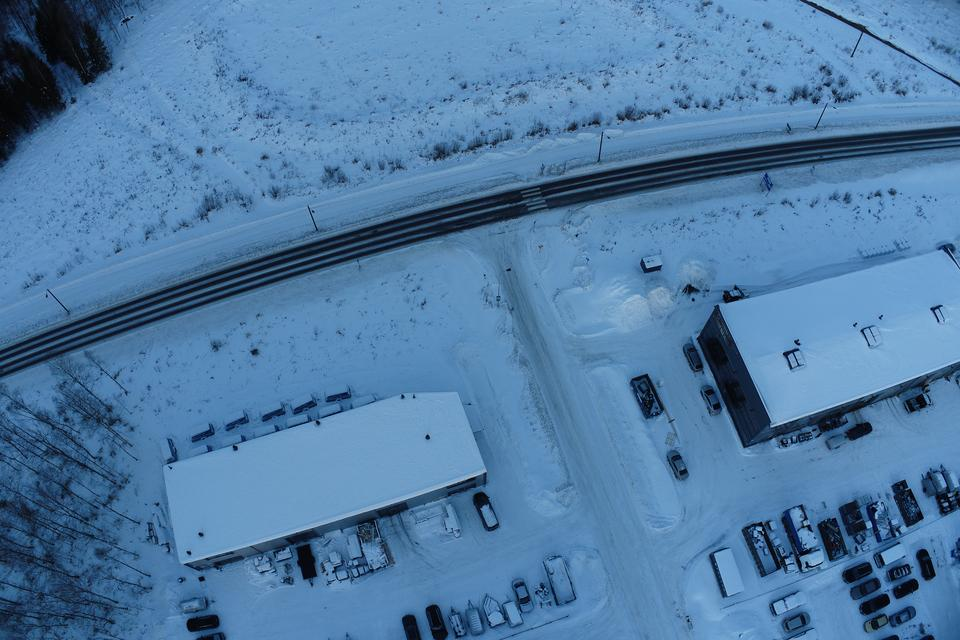intersection: (412, 100, 588, 329)
